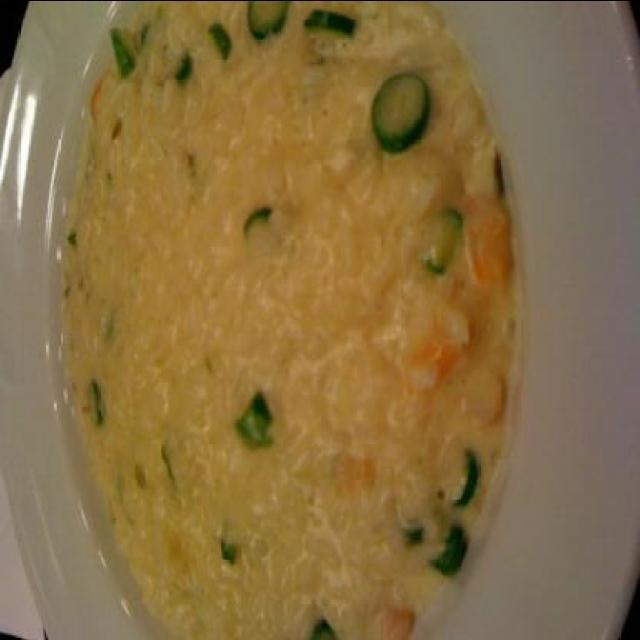Risotto: (72, 23, 510, 614)
